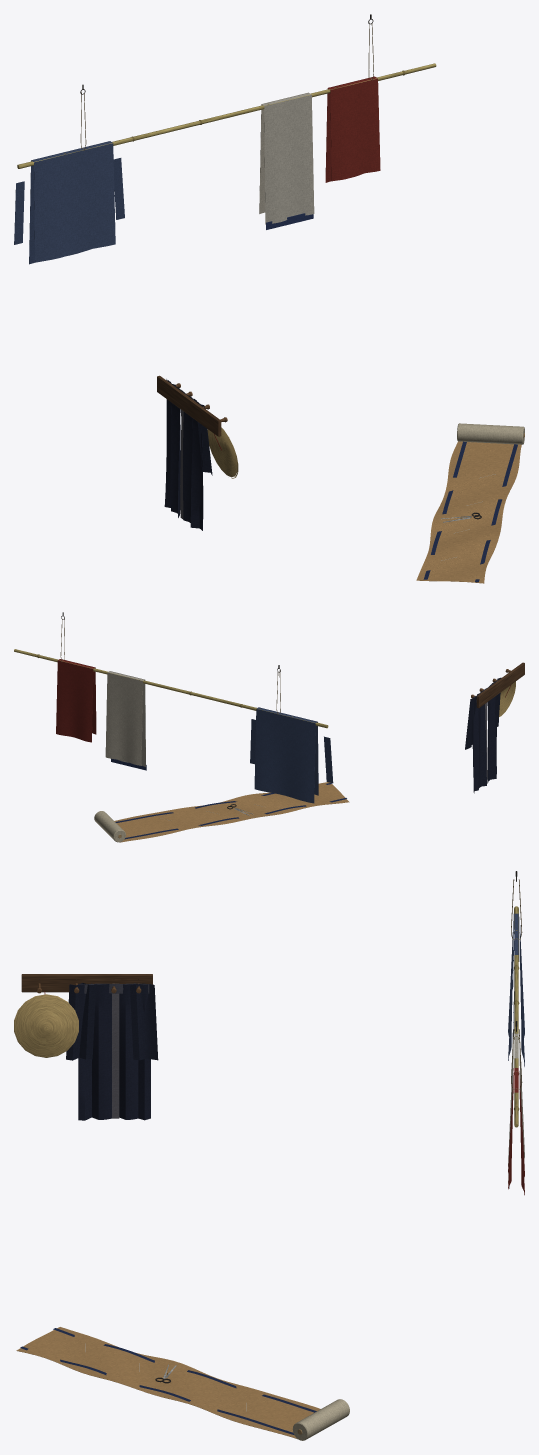
File: upper-cloth.glb
3 views of the same model, one above another, from view 1: azimuth 30°, elevation 25°; view 2: azimuth 150°, elevation 25°; view 3: azimuth 270°, elevation 25° (orthographic). The views are drawn at different scales.
Visible parts, largest first — view 1: UD_DryingPole_Cloths, UD_ClothBolt_Spread, UD_CoatRail_Haori; view 2: UD_DryingPole_Cloths, UD_ClothBolt_Spread, UD_CoatRail_Haori; view 3: UD_CoatRail_Haori, UD_ClothBolt_Spread, UD_DryingPole_Cloths.
Boxes of the visible parts, bbox=[...] form: UD_DryingPole_Cloths: bbox=[14, 14, 436, 264]; UD_ClothBolt_Spread: bbox=[416, 423, 524, 583]; UD_CoatRail_Haori: bbox=[157, 375, 238, 530]; UD_DryingPole_Cloths: bbox=[14, 612, 333, 803]; UD_ClothBolt_Spread: bbox=[94, 782, 349, 842]; UD_CoatRail_Haori: bbox=[465, 662, 524, 793]; UD_CoatRail_Haori: bbox=[14, 974, 158, 1120]; UD_ClothBolt_Spread: bbox=[16, 1327, 349, 1440]; UD_DryingPole_Cloths: bbox=[508, 871, 524, 1195].
Bounding box in the file's own units: 3.12 × 2.45 × 2.88.
10 materials, 9 textured.
